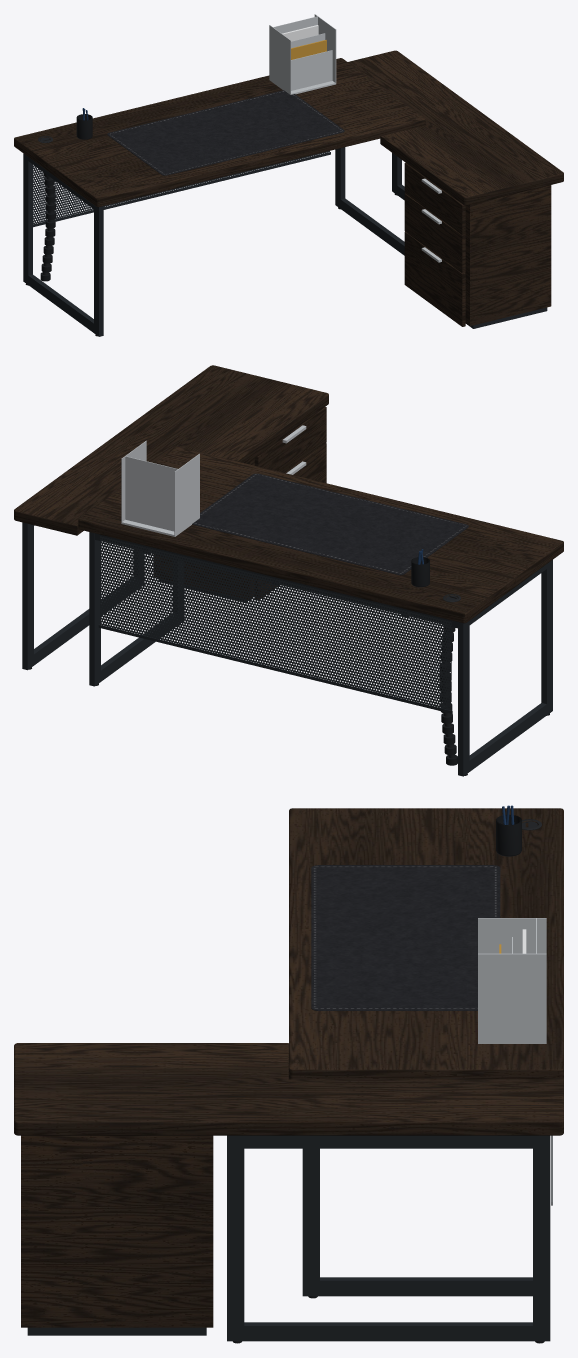
The model's file is Office_Manager_L_Desk.glb.
3 views of the same model, one above another, from view 1: azimuth 30°, elevation 25°; view 2: azimuth 150°, elevation 25°; view 3: azimuth 270°, elevation 25° (orthographic). The views are drawn at different scales.
Parts seen in each view (by area): view 1: Main_Top_Walnut, Return_Top_Walnut, Pedestal_Carcass, Desk_Pad_Leather, Drawer_Front_3, Drawer_Front_2, Modesty_Panel_Perforated, Drawer_Front_1, Tray_Divider_0, Tray_Side_L, Sled_Left_Upright_A, Sled_Left_Upright_B (+7 smaller); view 2: Modesty_Panel_Perforated, Main_Top_Walnut, Return_Top_Walnut, Desk_Pad_Leather, Tray_Divider_2, Drawer_Front_1, Sled_Left_Upright_A, Sled_Left_Upright_B, Tray_Side_L, Sled_Return_Upright_A, Sled_Right_Upright_A, Sled_Left_Floor_Runner (+9 smaller); view 3: Return_Top_Walnut, Main_Top_Walnut, Pedestal_Carcass, Desk_Pad_Leather, Sled_Return_Floor_Runner, Tray_Side_R, Sled_Return_Top_Rail, Sled_Right_Floor_Runner, Sled_Return_Upright_B, Sled_Return_Upright_A, Sled_Right_Upright_B, Tray_Side_L (+2 smaller).
Part boxes in pixels (x1,y1,x2,y2): Main_Top_Walnut: [14, 58, 425, 207]; Return_Top_Walnut: [348, 50, 563, 205]; Pedestal_Carcass: [465, 185, 551, 325]; Desk_Pad_Leather: [107, 90, 344, 175]; Drawer_Front_3: [404, 231, 465, 326]; Drawer_Front_2: [404, 193, 465, 273]; Modesty_Panel_Perforated: [33, 151, 329, 224]; Drawer_Front_1: [404, 163, 465, 234]; Tray_Divider_0: [287, 50, 332, 90]; Tray_Side_L: [269, 25, 290, 93]; Sled_Left_Upright_A: [23, 154, 32, 279]; Sled_Left_Upright_B: [94, 207, 103, 327]; Modesty_Panel_Perforated: [100, 536, 451, 710]; Main_Top_Walnut: [78, 447, 563, 623]; Return_Top_Walnut: [14, 365, 328, 535]; Desk_Pad_Leather: [192, 473, 468, 575]; Tray_Divider_2: [125, 456, 178, 532]; Drawer_Front_1: [254, 407, 326, 472]; Sled_Left_Upright_A: [458, 621, 469, 771]; Sled_Left_Upright_B: [541, 560, 552, 710]; Tray_Side_L: [174, 453, 199, 534]; Sled_Return_Upright_A: [22, 523, 33, 665]; Sled_Right_Upright_A: [89, 534, 100, 682]; Sled_Left_Floor_Runner: [458, 703, 552, 776]; Return_Top_Walnut: [14, 1043, 563, 1135]; Main_Top_Walnut: [289, 808, 563, 1079]; Pedestal_Carcass: [21, 1135, 213, 1327]; Desk_Pad_Leather: [311, 865, 500, 1010]; Sled_Return_Floor_Runner: [227, 1322, 550, 1341]; Tray_Side_R: [478, 953, 546, 1041]; Sled_Return_Top_Rail: [227, 1135, 550, 1148]; Sled_Right_Floor_Runner: [302, 1277, 532, 1296]; Sled_Return_Upright_B: [227, 1140, 244, 1335]; Sled_Return_Upright_A: [533, 1140, 550, 1335]; Sled_Right_Upright_B: [302, 1148, 319, 1290]; Tray_Side_L: [478, 918, 546, 953].
Size of the model in its own units: 2.1 by 1.04 by 1.6.
Materials: 11 (3 with a texture image).
